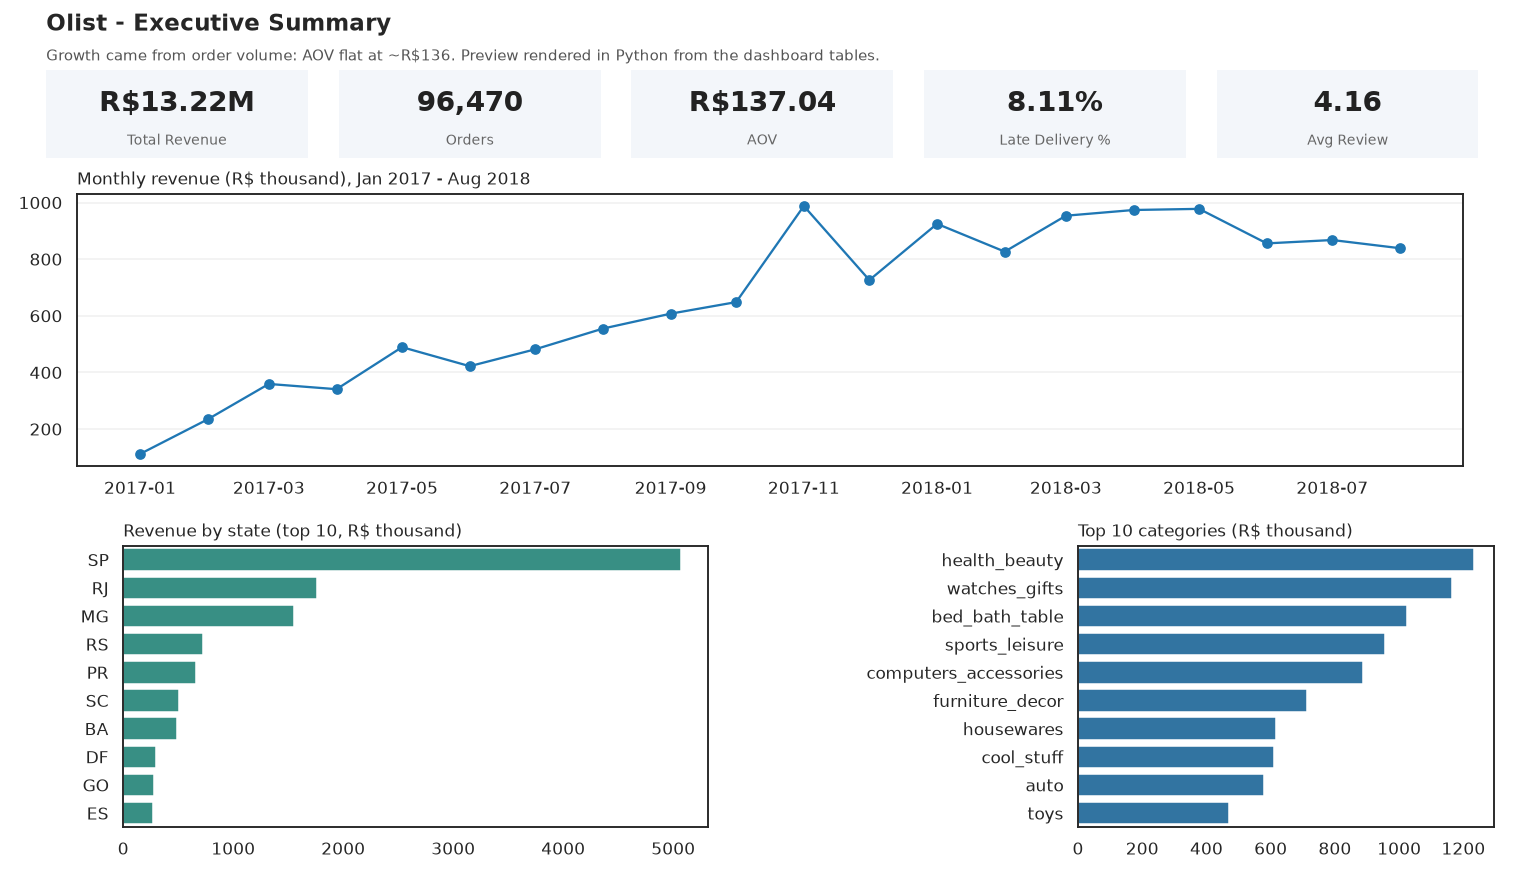

This screenshot's page, from the dashboard's own definition file:
{"tool":"powerbi","page":{"name":"Page 1","canvas":[1920,1080],"ordinal":0},"visuals":[{"type":"lineChart","fields":{"Category":["orders.order_purchase_timestamp.Variation.Date Hierarchy.Month"],"Y":["orders.Total Revenue"]},"box":[0,0,985,507.5],"z":0},{"type":"clusteredColumnChart","fields":{"Category":["orders.customer_state"],"Y":["orders.Total Revenue"]},"box":[0,517.5,985,562.5],"z":1000},{"type":"clusteredBarChart","fields":{"Category":["order_items.category"],"Y":["order_items.Item Revenue"]},"box":[995,0,925,1080],"z":2000}]}

Visuals, with their boxes in screenshot pixels (x1, y1, x2, y2), scaled from the page's 1920x1080 canvas onto the 1540x880 screenshot:
lineChart - orders.order_purchase_timestamp.Variation.Date Hierarchy.Month x orders.Total Revenue: {"left": 0, "top": 0, "right": 790, "bottom": 414}
clusteredColumnChart - orders.customer_state x orders.Total Revenue: {"left": 0, "top": 422, "right": 790, "bottom": 879}
clusteredBarChart - order_items.category x order_items.Item Revenue: {"left": 798, "top": 0, "right": 1539, "bottom": 879}
